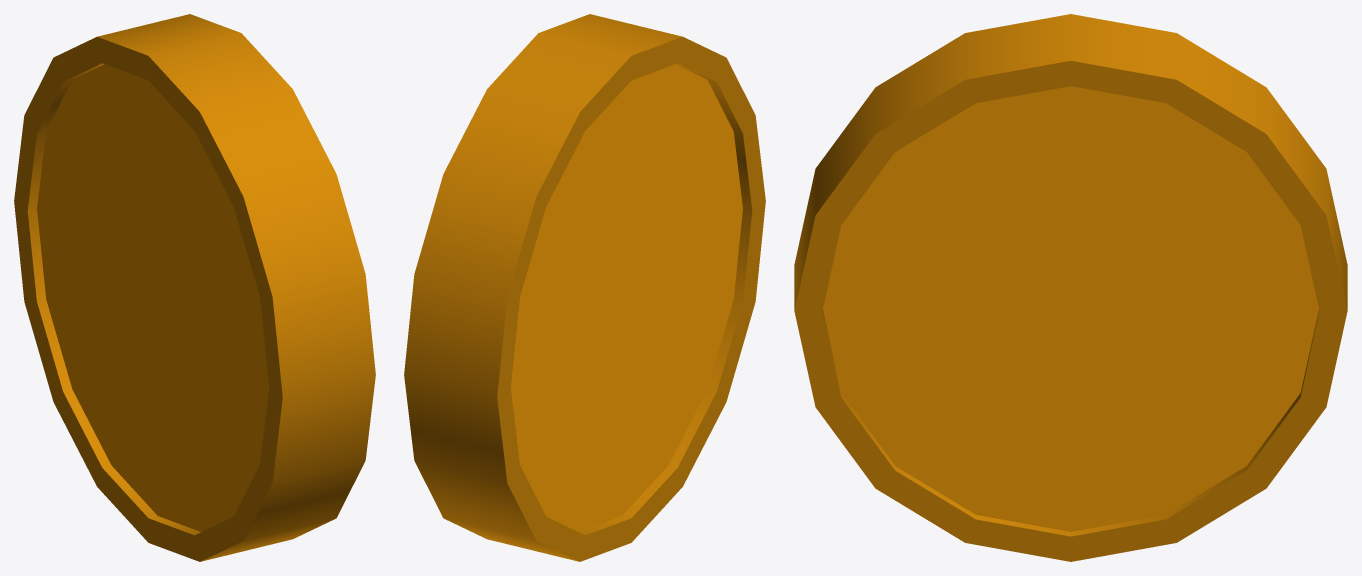
Rendered from GoldCoin.dae.
The picture shows the model from 3 angles, left to right: view 1: azimuth 30°, elevation 25°; view 2: azimuth 150°, elevation 25°; view 3: azimuth 270°, elevation 25°; orthographic projection. The views are drawn at different scales.
Parts seen in each view (by area): view 1: Coin; view 2: Coin; view 3: Coin.
Boxes of the visible parts, bbox=[...] form: Coin: bbox=[14, 14, 375, 561]; Coin: bbox=[404, 14, 765, 561]; Coin: bbox=[794, 14, 1347, 561].
Size of the model in its own units: 0.4 by 2 by 2.
